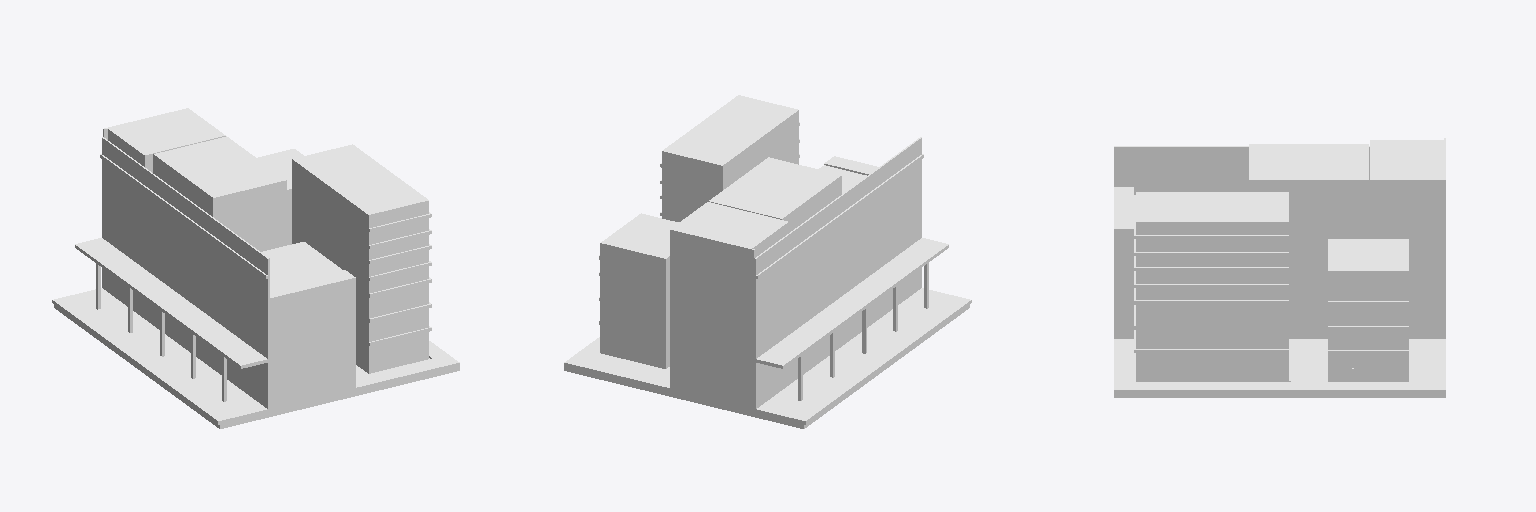
Rendered from sity_1.obj.
The picture shows the model from 3 angles: view 1: azimuth 30°, elevation 25°; view 2: azimuth 150°, elevation 25°; view 3: azimuth 270°, elevation 25°; orthographic projection.
Parts seen in each view (by area): view 1: object 1; view 2: object 1; view 3: object 1.
Part boxes in pixels (bbox=[...]): object 1: bbox=[52, 108, 459, 428]; object 1: bbox=[564, 95, 971, 428]; object 1: bbox=[1114, 138, 1445, 397].
Size of the model in its own units: 15.1 by 10 by 18.